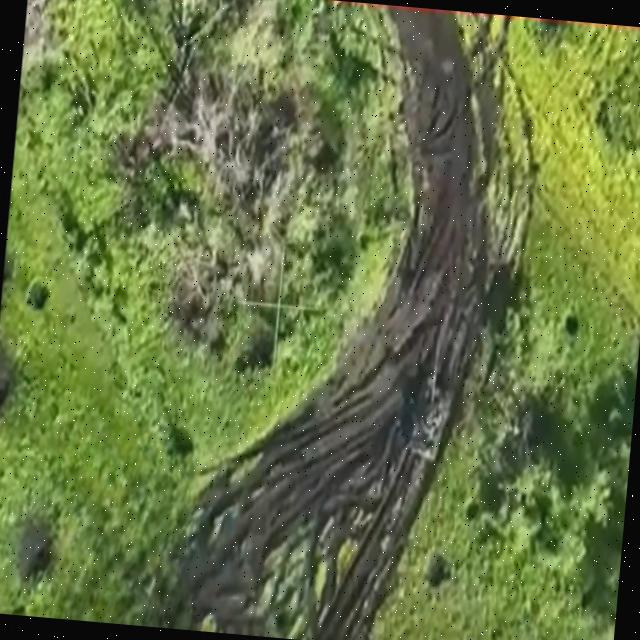MBT: (404, 350, 458, 469)
